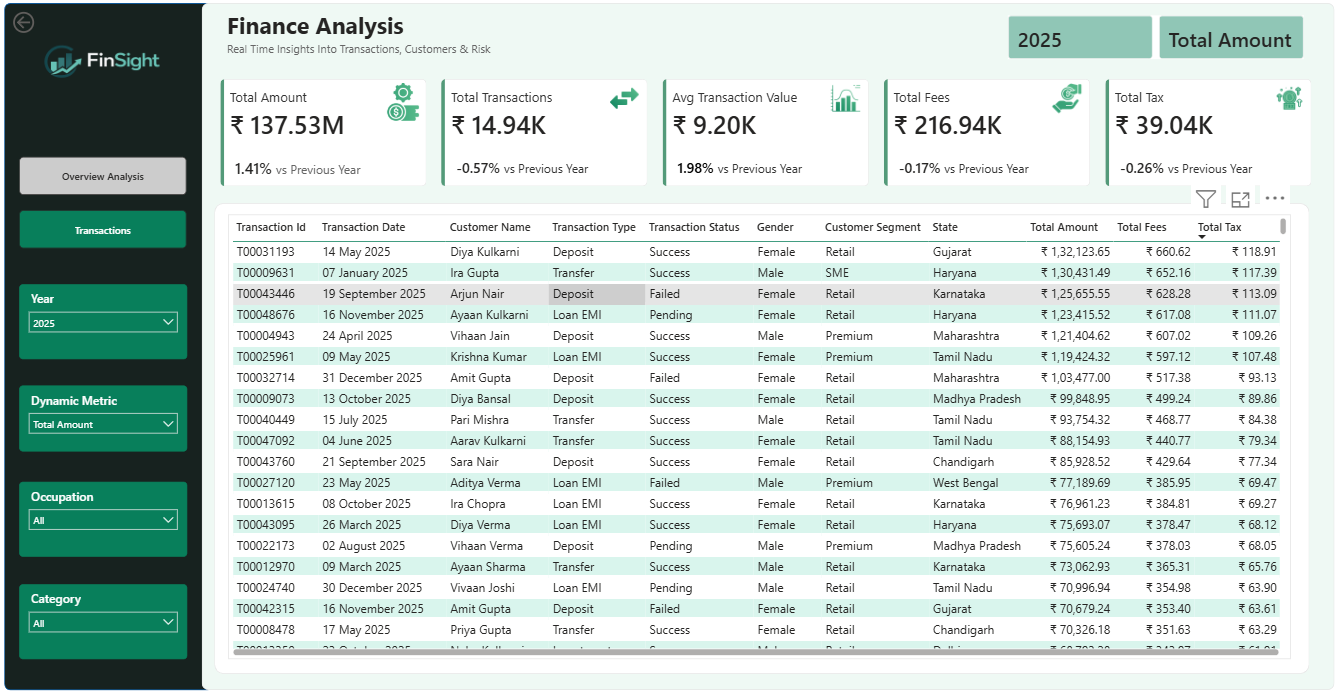

Layout of this report page (visuals, bound fields, positions):
{"tool":"powerbi","page":{"name":"Transactions","canvas":[1800,950],"ordinal":1},"visuals":[{"type":"shape","box":[14.5,12.9,279.1,916.4],"z":0},{"type":"shape","box":[277.5,12.9,1510.2,916],"z":1000},{"type":"image","box":[14.5,12.9,263,161.3],"z":2000},{"type":"cardVisual","fields":{"Data":["finance_transactions.Dashboard Title"]},"box":[295.2,13.5,410.4,80.1],"z":3000},{"type":"cardVisual","fields":{"Data":["finance_transactions.Total Amount","finance_transactions.Total Transactions","finance_transactions.Avg Transaction Value","finance_transactions.Total Fees","finance_transactions.Total Tax"]},"box":[296,107.9,1471.7,155.3],"z":4000},{"type":"image","box":[521.6,119.4,50,50],"z":5000},{"type":"image","box":[816,119.4,50.7,40.9],"z":6000},{"type":"image","box":[1406.3,119.4,50.7,40.9],"z":7000},{"type":"image","box":[1111.9,119.4,50.7,40.9],"z":8000},{"type":"image","box":[1703.9,119.4,50.7,40.9],"z":9000},{"type":"shape","box":[294.3,279.6,1460.2,627.9],"z":10000},{"type":"cardVisual","fields":{"Data":["finance_transactions.Selected Year","finance_transactions.Selected Dynamc Measure"]},"box":[1349,24.5,405.5,68.7],"z":11000},{"type":"tableEx","fields":{"Values":["finance_transactions.transaction_id","finance_transactions.transaction_date","customers.customer_name","finance_transactions.transaction_type","finance_transactions.transaction_status","customers.gender","customers.customer_segment","customers.state","finance_transactions.Total Amount","finance_transactions.Total Fees","finance_transactions.Total Tax"]},"box":[314,294.3,1416.1,593.6],"z":12000},{"type":"actionButton","box":[21.7,20,40,38.4],"z":13000},{"type":"slicer","fields":{"Values":["Calendar Table.Year"]},"box":[34.3,387.5,224,99.7],"z":14000},{"type":"slicer","fields":{"Values":["Dynamic Metric.Dynamic Metric"]},"box":[35,523.9,224,88.3],"z":15000},{"type":"slicer","fields":{"Values":["customers.occupation"]},"box":[35,652.4,224,99.7],"z":16000},{"type":"slicer","fields":{"Values":["finance_transactions.merchant_category"]},"box":[35,787.5,224,99.7],"z":17000},{"type":"pageNavigator","box":[35,218.6,223.6,123.5],"z":18000}]}

Visuals, with their boxes on the page's 1800x950 design canvas (x1, y1, x2, y2). These are canvas units, not pixel positions in the 1341x694 screenshot, which may show the page scaled, cropped or inside an application window:
shape: left=14, top=13, right=294, bottom=929
shape: left=278, top=13, right=1788, bottom=929
image: left=14, top=13, right=278, bottom=174
cardVisual - finance_transactions.Dashboard Title: left=295, top=14, right=706, bottom=94
cardVisual - finance_transactions.Total Amount x finance_transactions.Total Transactions: left=296, top=108, right=1768, bottom=263
image: left=522, top=119, right=572, bottom=169
image: left=816, top=119, right=867, bottom=160
image: left=1406, top=119, right=1457, bottom=160
image: left=1112, top=119, right=1163, bottom=160
image: left=1704, top=119, right=1755, bottom=160
shape: left=294, top=280, right=1754, bottom=908
cardVisual - finance_transactions.Selected Year x finance_transactions.Selected Dynamc Measure: left=1349, top=24, right=1754, bottom=93
tableEx - finance_transactions.transaction_id x finance_transactions.transaction_date: left=314, top=294, right=1730, bottom=888
actionButton: left=22, top=20, right=62, bottom=58
slicer - Calendar Table.Year: left=34, top=388, right=258, bottom=487
slicer - Dynamic Metric.Dynamic Metric: left=35, top=524, right=259, bottom=612
slicer - customers.occupation: left=35, top=652, right=259, bottom=752
slicer - finance_transactions.merchant_category: left=35, top=788, right=259, bottom=887
pageNavigator: left=35, top=219, right=259, bottom=342
